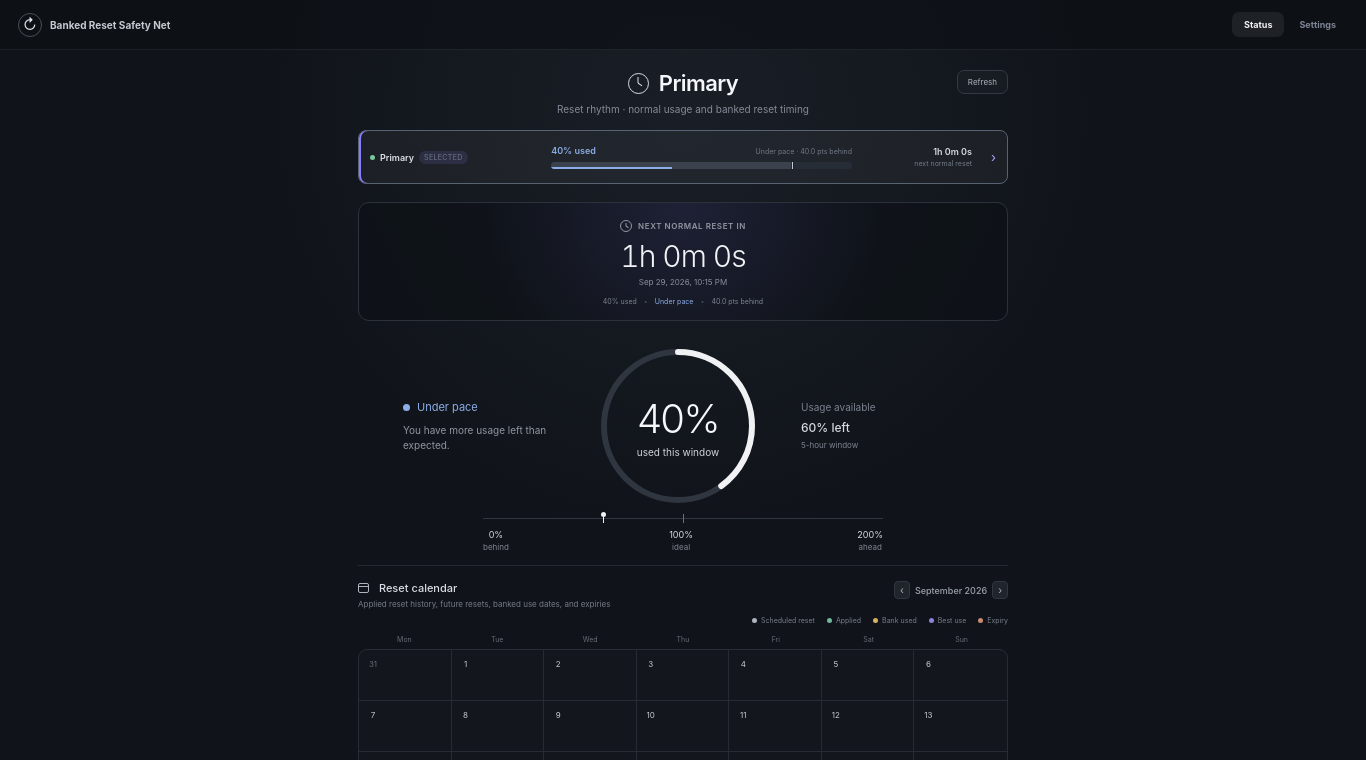
Test: App › surfaces an action IPC error and lets the user dismiss it
The image size is (1366, 760).
Click the button "Refresh" at (982, 82), box [957,70,1008,94]
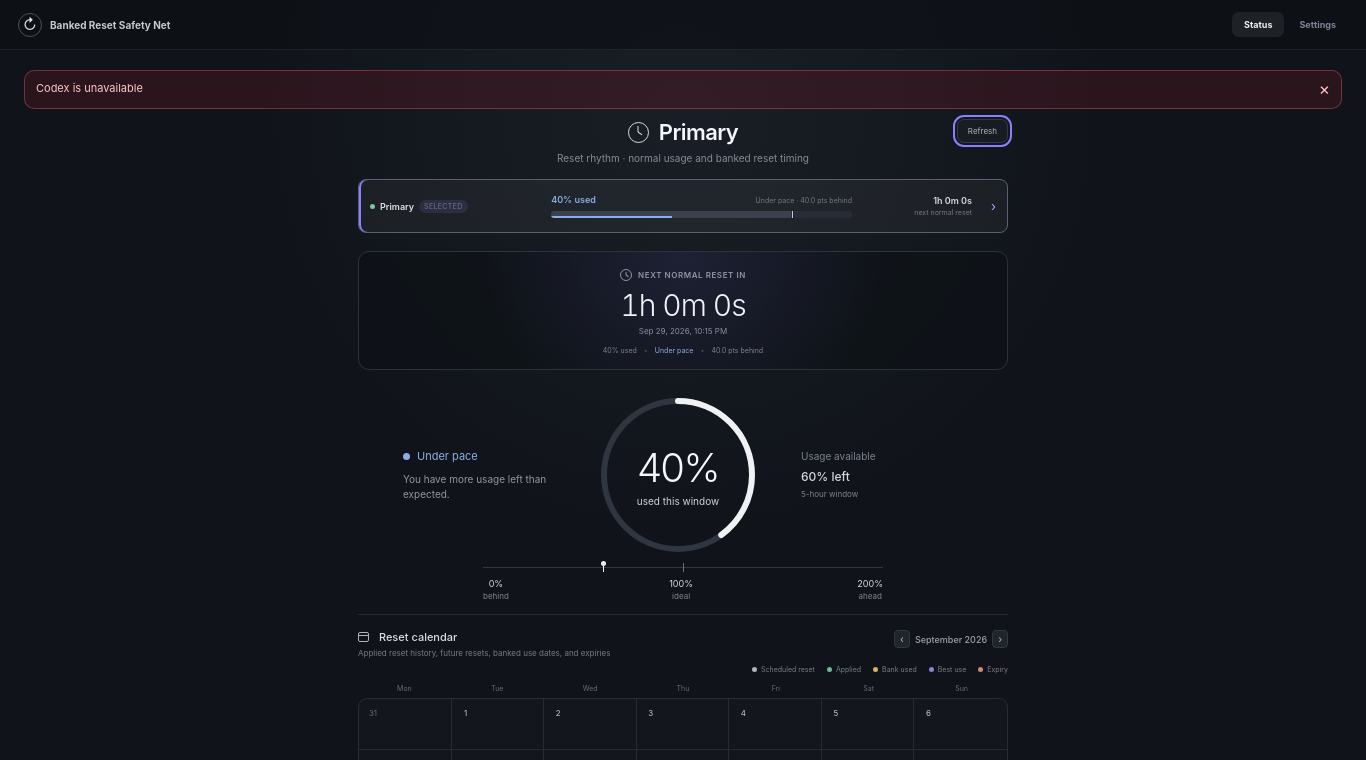
Now the message shows "Codex is unavailable", box [36,81,143,95]
Click the button named "Dismiss error" at (1324, 90), box [1319,81,1330,98]
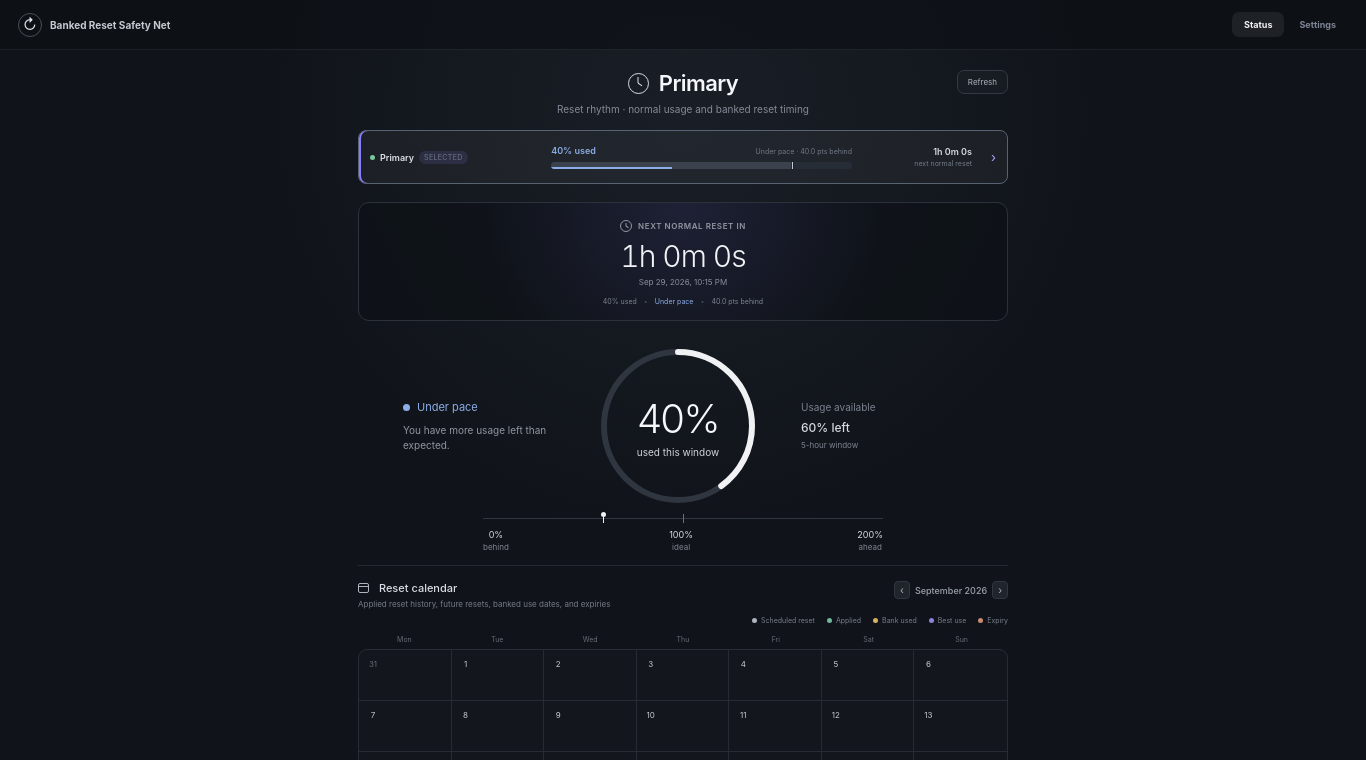
Now the message "Codex is unavailable ×" is gone
